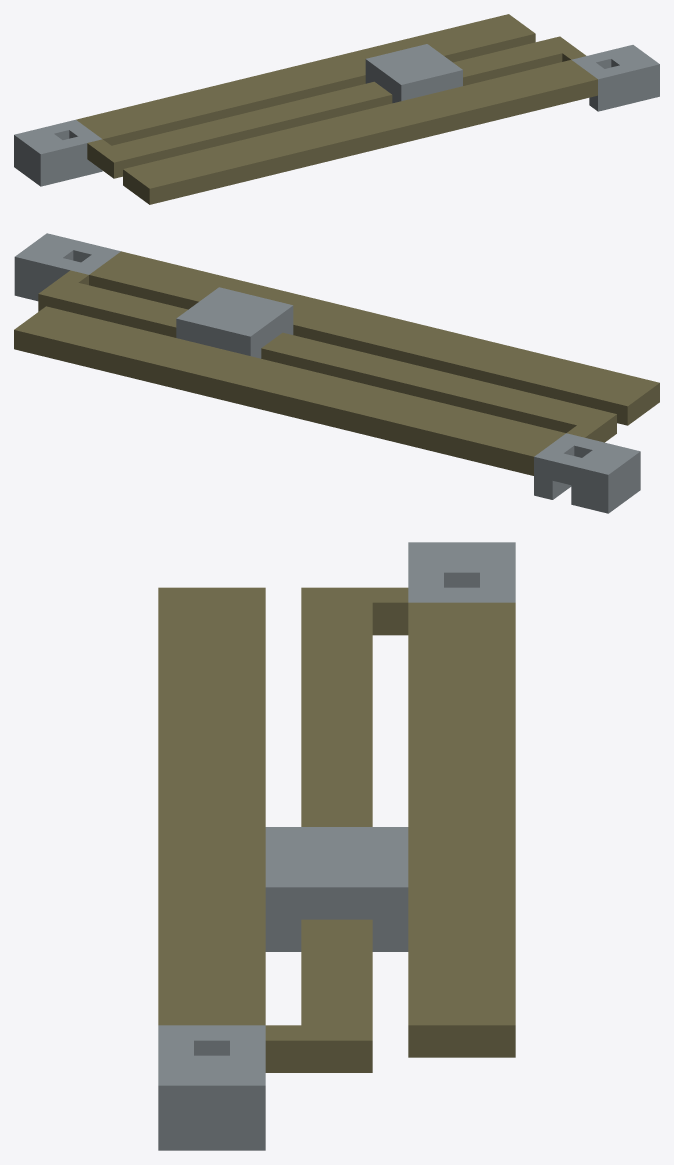
File: weapon_sling.glb
3 views of the same model, one above another, from view 1: azimuth 30°, elevation 25°; view 2: azimuth 150°, elevation 25°; view 3: azimuth 270°, elevation 25° (orthographic). The views are drawn at different scales.
Parts seen in each view (by area): view 1: equipment:webbingSling; view 2: equipment:webbingSling; view 3: equipment:webbingSling.
Boxes of the visible parts, x1,y1,x2,y2 form: equipment:webbingSling: (14, 14, 659, 204); equipment:webbingSling: (14, 233, 659, 513); equipment:webbingSling: (158, 542, 515, 1150).
Size of the model in its own units: 0.36 by 0.03 by 0.1.
